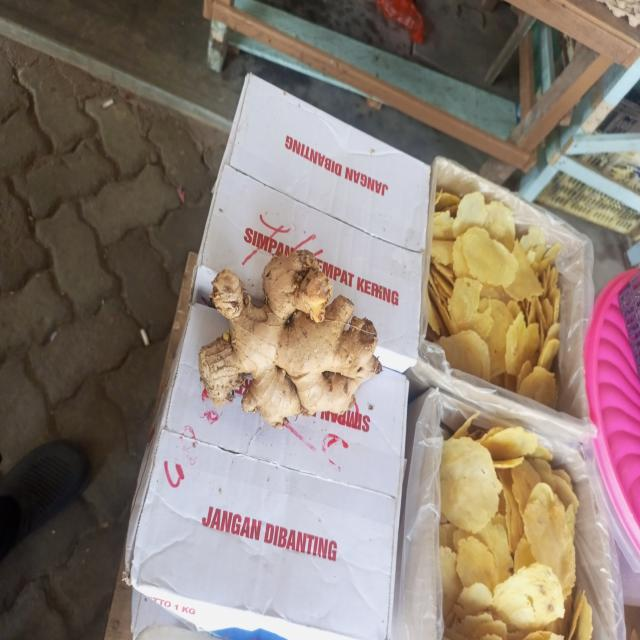ginger: (201, 256, 379, 421)
